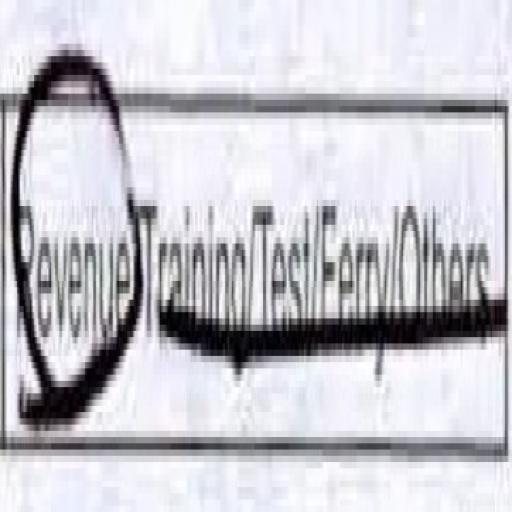check: (0, 0, 143, 506)
